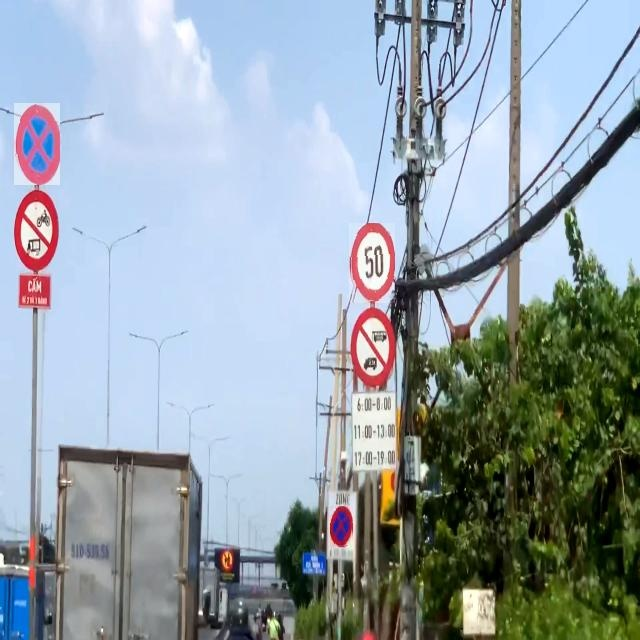bien_cam: (14, 103, 60, 185), (349, 223, 395, 303), (330, 506, 353, 547)
